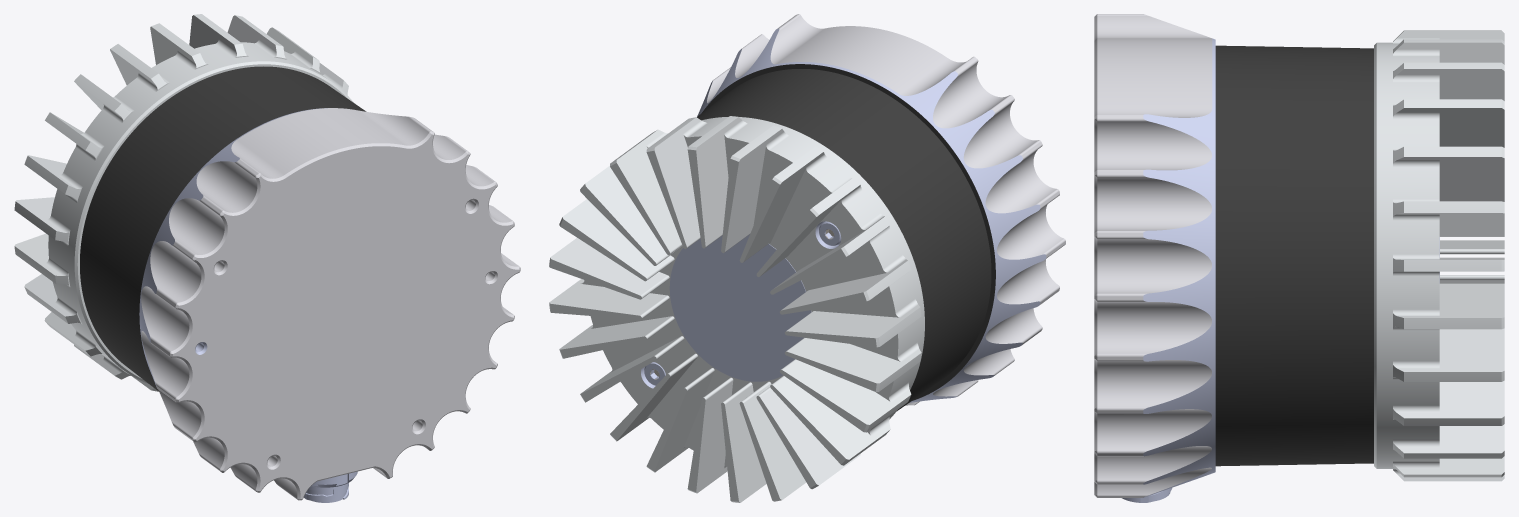
File: Ouster_OS0_Collada.dae
3 renders of one model, left to right at view 1: azimuth 30°, elevation 25°; view 2: azimuth 150°, elevation 25°; view 3: azimuth 270°, elevation 25°, orthographic. The views are drawn at different scales.
Visible parts, largest first — view 1: ID2; view 2: ID2; view 3: ID2.
Part boxes in pixels (x1=…): ID2: x1=14, y1=14, x2=520, y2=502; ID2: x1=549, y1=14, x2=1065, y2=502; ID2: x1=1094, y1=14, x2=1504, y2=502.
Size of the model in its own units: 0.087 by 0.0735 by 0.0867.
